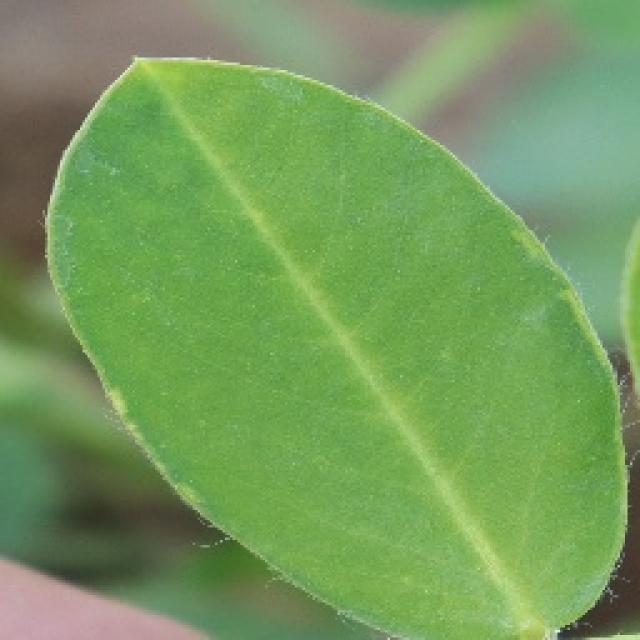Yellow_and_black_sigatoka: (44, 37, 623, 640)
